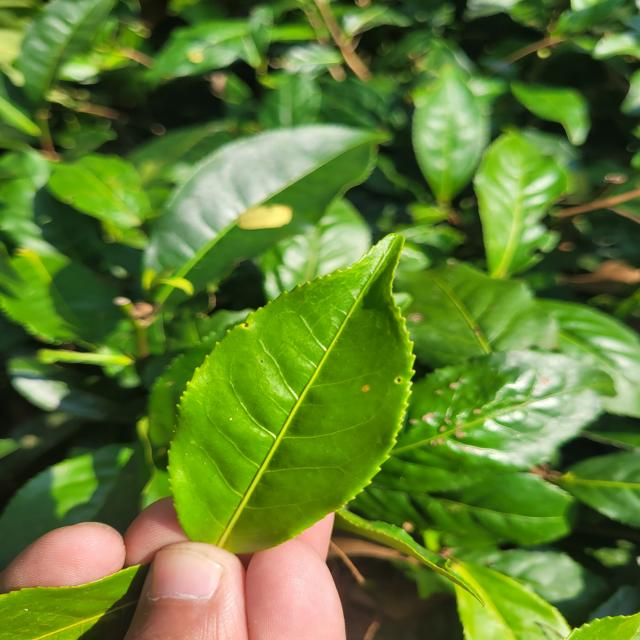Catagory A(1-2 days): (162, 230, 426, 559)
